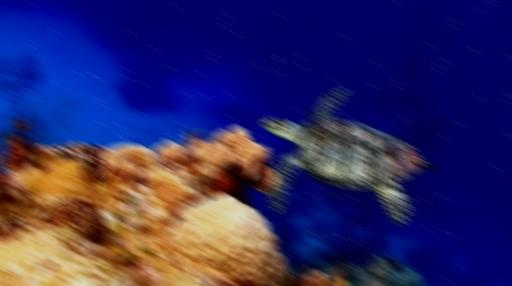Fish: (261, 87, 436, 224)
